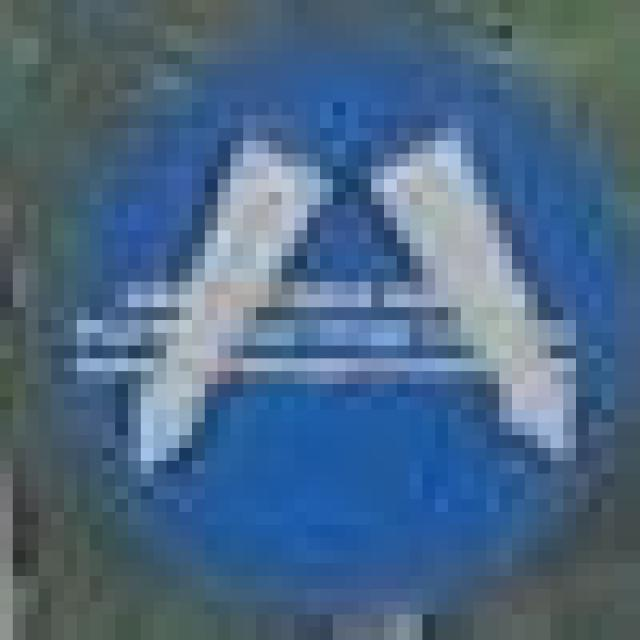pass either side: (45, 19, 620, 591)
